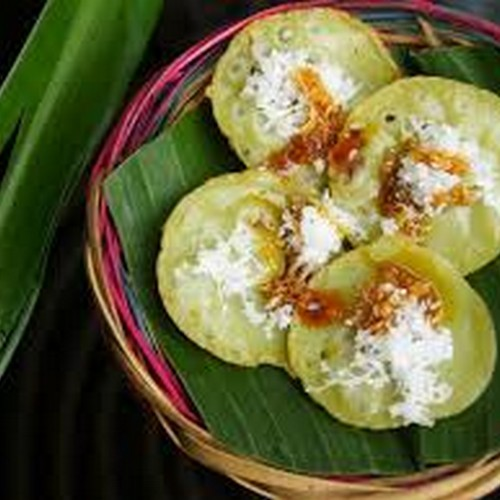laklak: (190, 74, 494, 413)
